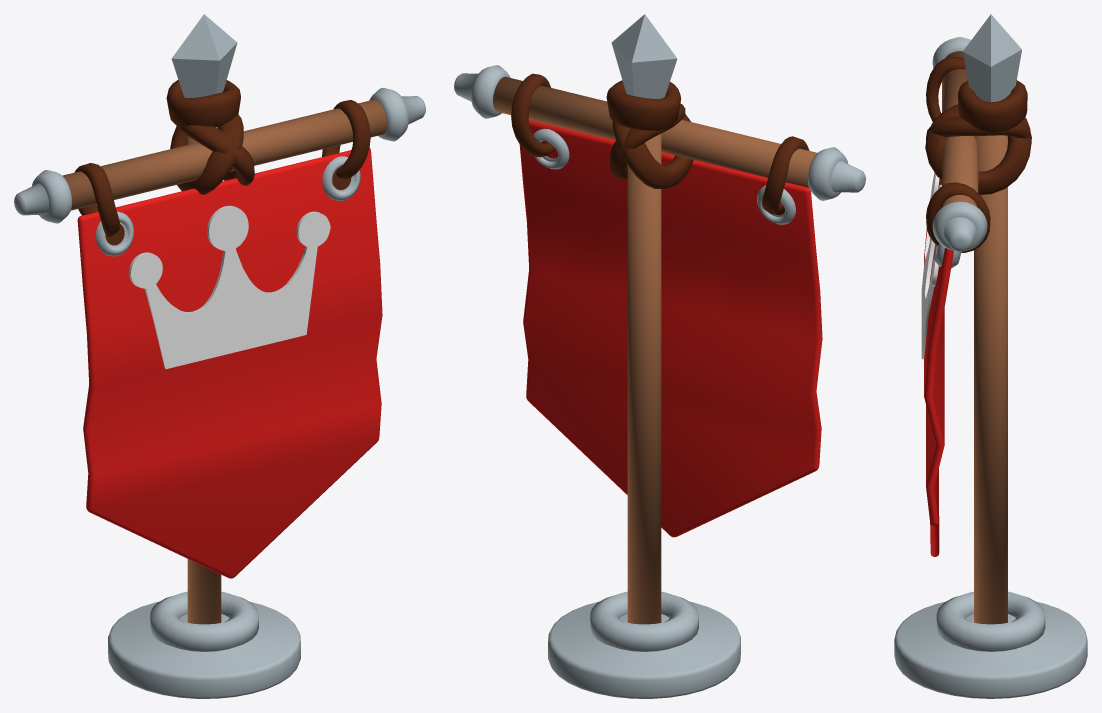
The model's file is kingflag.glb.
3 views of the same model, side by side, from view 1: azimuth 30°, elevation 25°; view 2: azimuth 150°, elevation 25°; view 3: azimuth 270°, elevation 25° (orthographic).
Parts seen in each view (by area): view 1: kingflag; view 2: kingflag; view 3: kingflag.
Boxes of the visible parts, x1,y1,x2,y2 form: kingflag: (14,14,425,698); kingflag: (454,14,865,698); kingflag: (894,14,1087,698).
Bounding box in the file's own units: 3.79 × 5.78 × 1.57.
